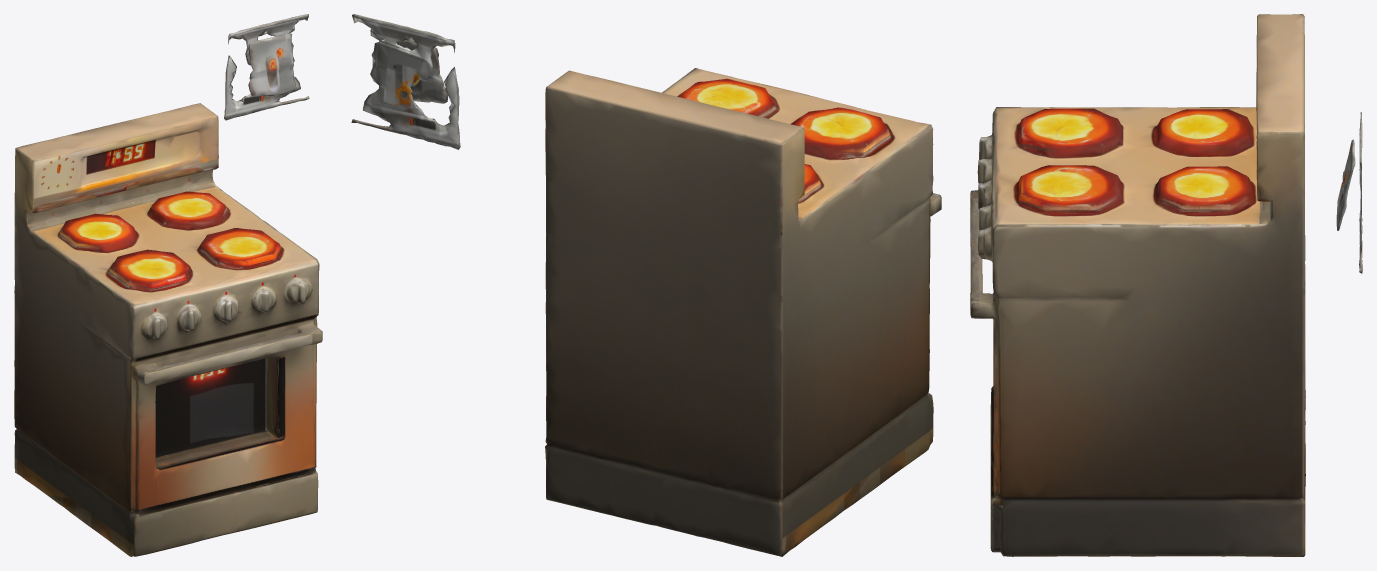
The model's file is Meshy_AI_The_Digital_Stove_0124082557_texture.glb.
3 views of the same model, side by side, from view 1: azimuth 30°, elevation 25°; view 2: azimuth 150°, elevation 25°; view 3: azimuth 270°, elevation 25° (orthographic). The views are drawn at different scales.
Bounding box in the file's own units: 1.82 × 2.01 × 1.49.
Materials: 1 (1 with a texture image).
